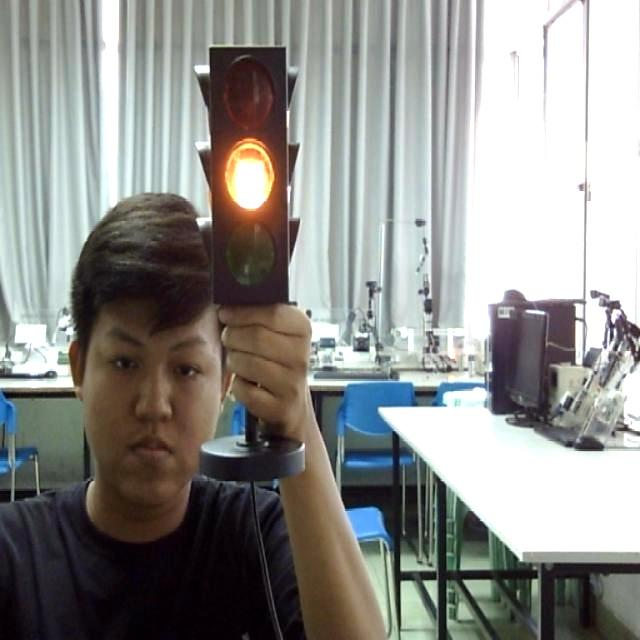Yellow: (204, 40, 304, 304)
